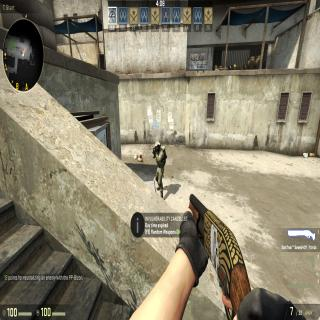CT-Body: (154, 141, 166, 196)
CT-Head: (154, 140, 160, 153)
